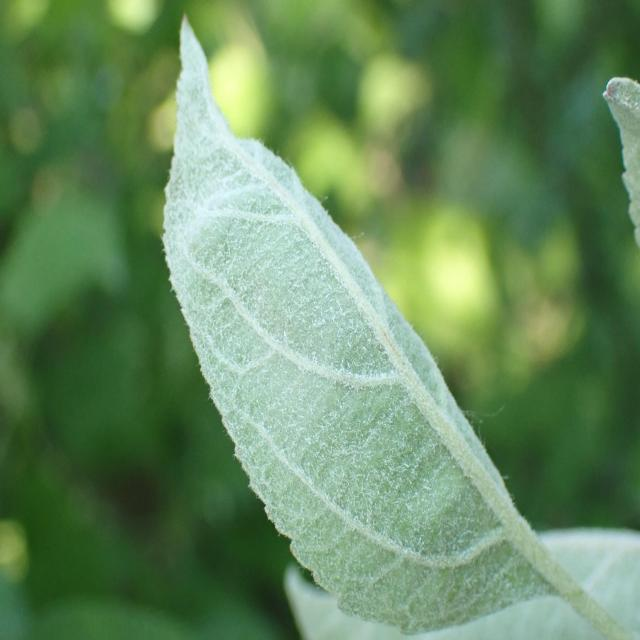Powdery_mildew: (148, 0, 570, 624), (247, 499, 640, 638), (599, 53, 640, 265)
